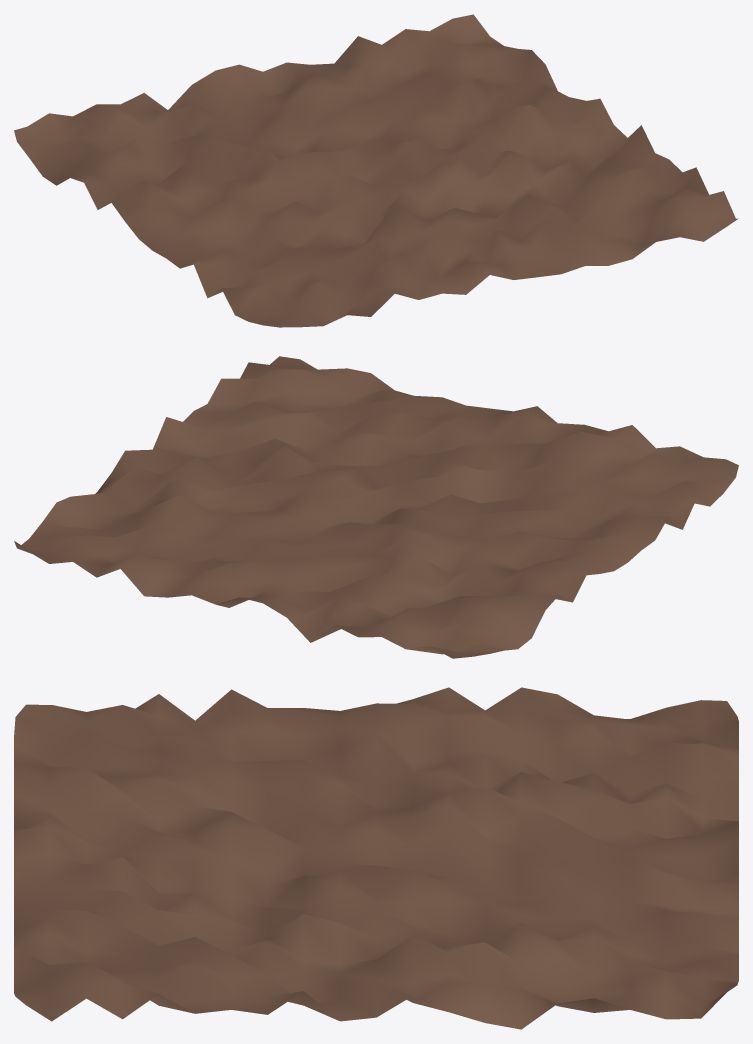
Rendered from ground_temp.fbx.
3 renders of one model, top to bottom at view 1: azimuth 30°, elevation 25°; view 2: azimuth 150°, elevation 25°; view 3: azimuth 270°, elevation 25°, orthographic. The views are drawn at different scales.
Visible parts, largest first — view 1: GroundMesh_temp; view 2: GroundMesh_temp; view 3: GroundMesh_temp.
Boxes of the visible parts, box(x1,y1,x2,y2) form: GroundMesh_temp: box(14, 14, 738, 327); GroundMesh_temp: box(14, 356, 738, 658); GroundMesh_temp: box(14, 687, 738, 1029).
Bounding box in the file's own units: 8000 × 735 × 8000.
